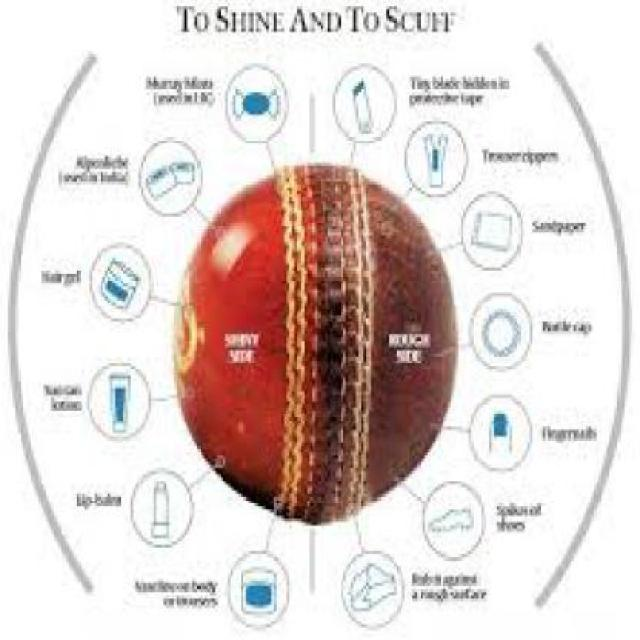ball: (153, 144, 491, 526)
